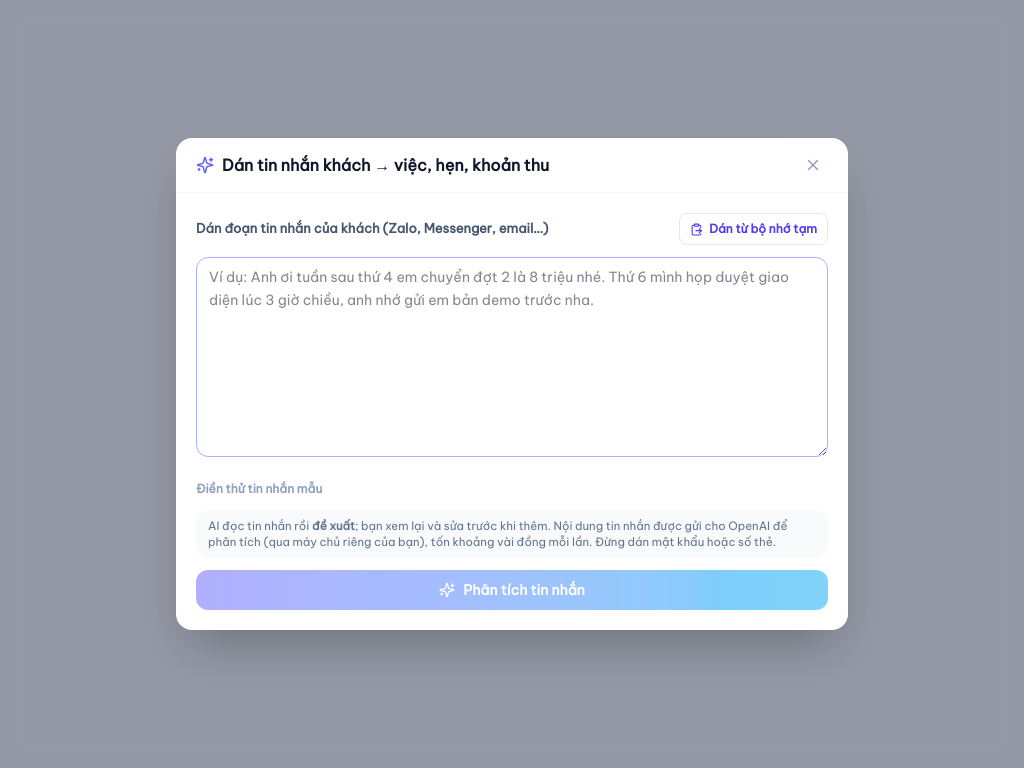
Test: khung Dán tin nhắn khách › chưa có chữ → nút phân tích bị khoá; điền tin nhắn mẫu được
This screenshot has width=1024, height=768.
Check: the button "Phân tích tin nhắn" is disabled, box 196,570 -> 828,610
Click the button "Điền thử tin nhắn mẫu" at (259,489), box 196,480 -> 322,498
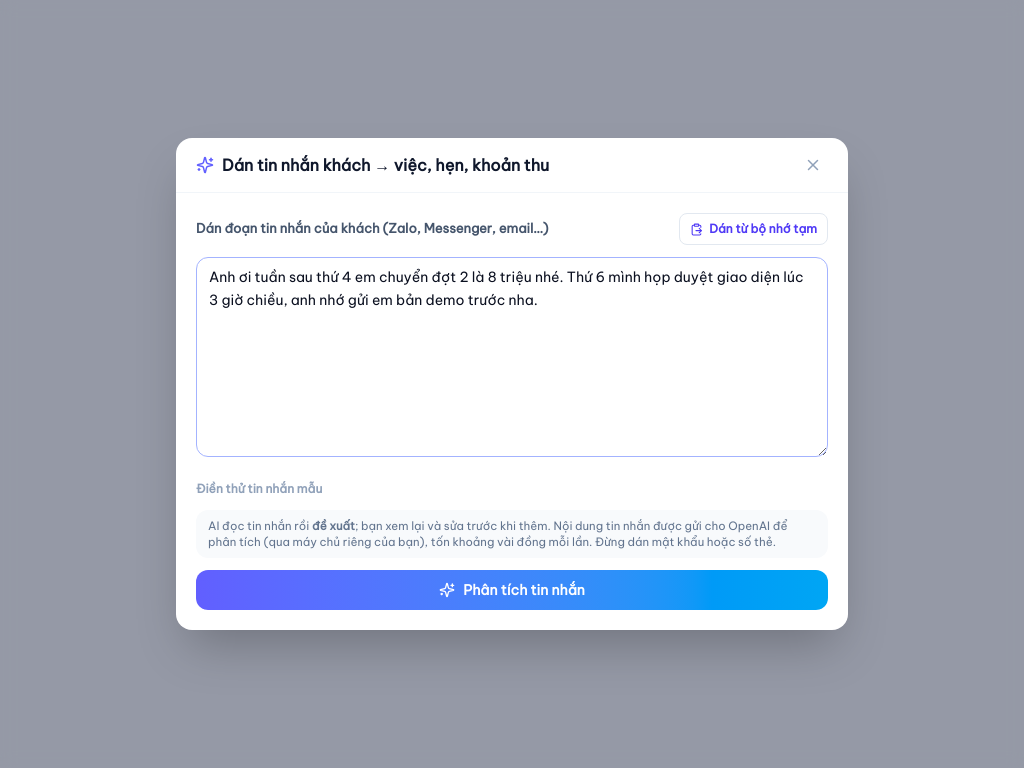
Check: the button "Phân tích tin nhắn" is enabled, box 196,570 -> 828,610
